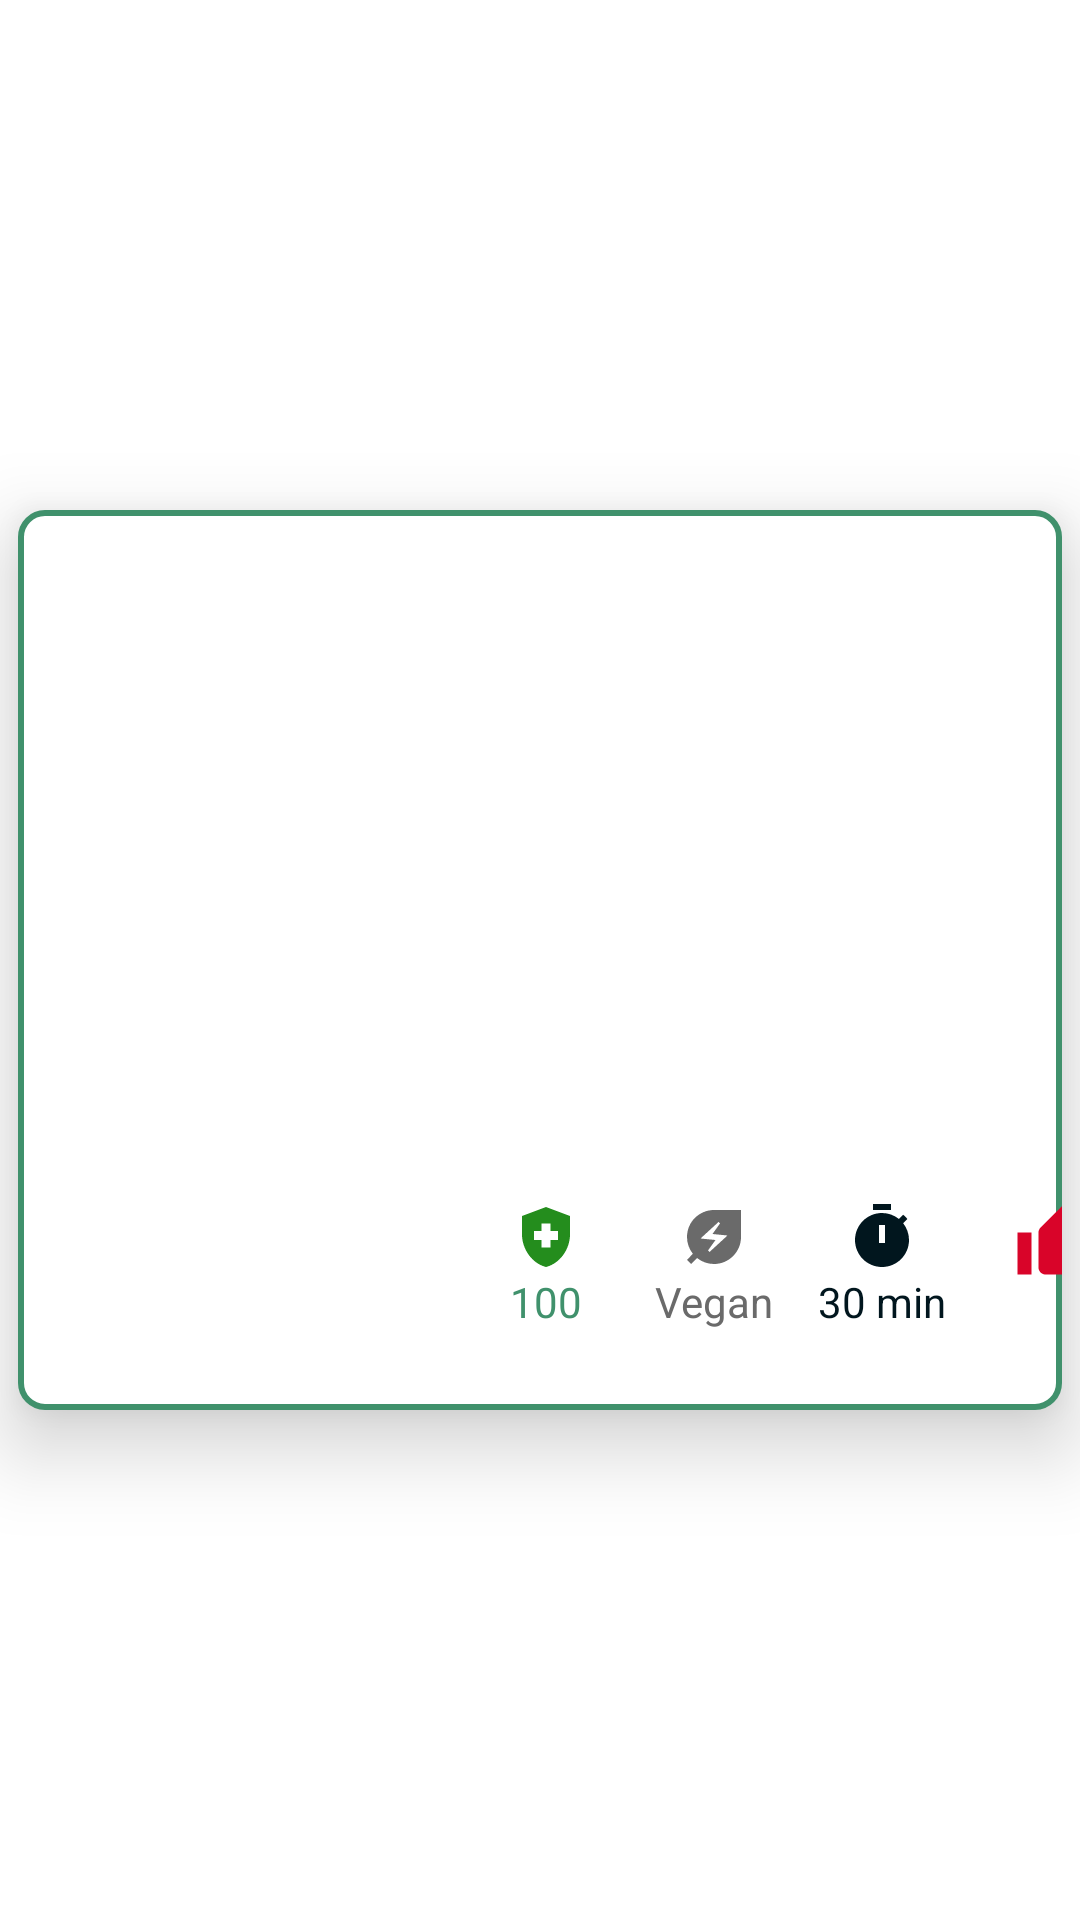

Named icons in this screenshot (1080px×1920px) and their bounding boxes, (x1, y1, x2, y2):
healthly: (522, 1207, 570, 1267)
leaf: (687, 1210, 741, 1264)
time: (855, 1204, 909, 1267)
